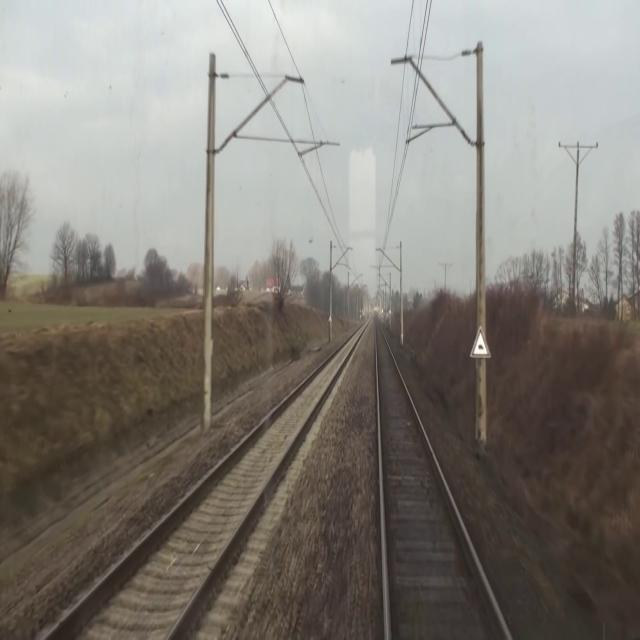rail-track: (49, 325, 364, 639), (376, 319, 506, 639)
